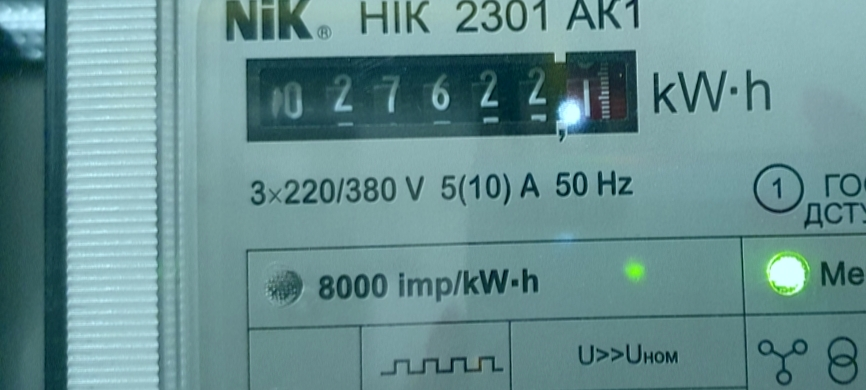0: (279, 79, 304, 121)
1: (577, 76, 593, 120)
2: (475, 68, 500, 110), (330, 72, 353, 115), (524, 65, 547, 107)
6: (428, 72, 450, 113)
7: (378, 73, 402, 117)
screen: (232, 41, 650, 149)
